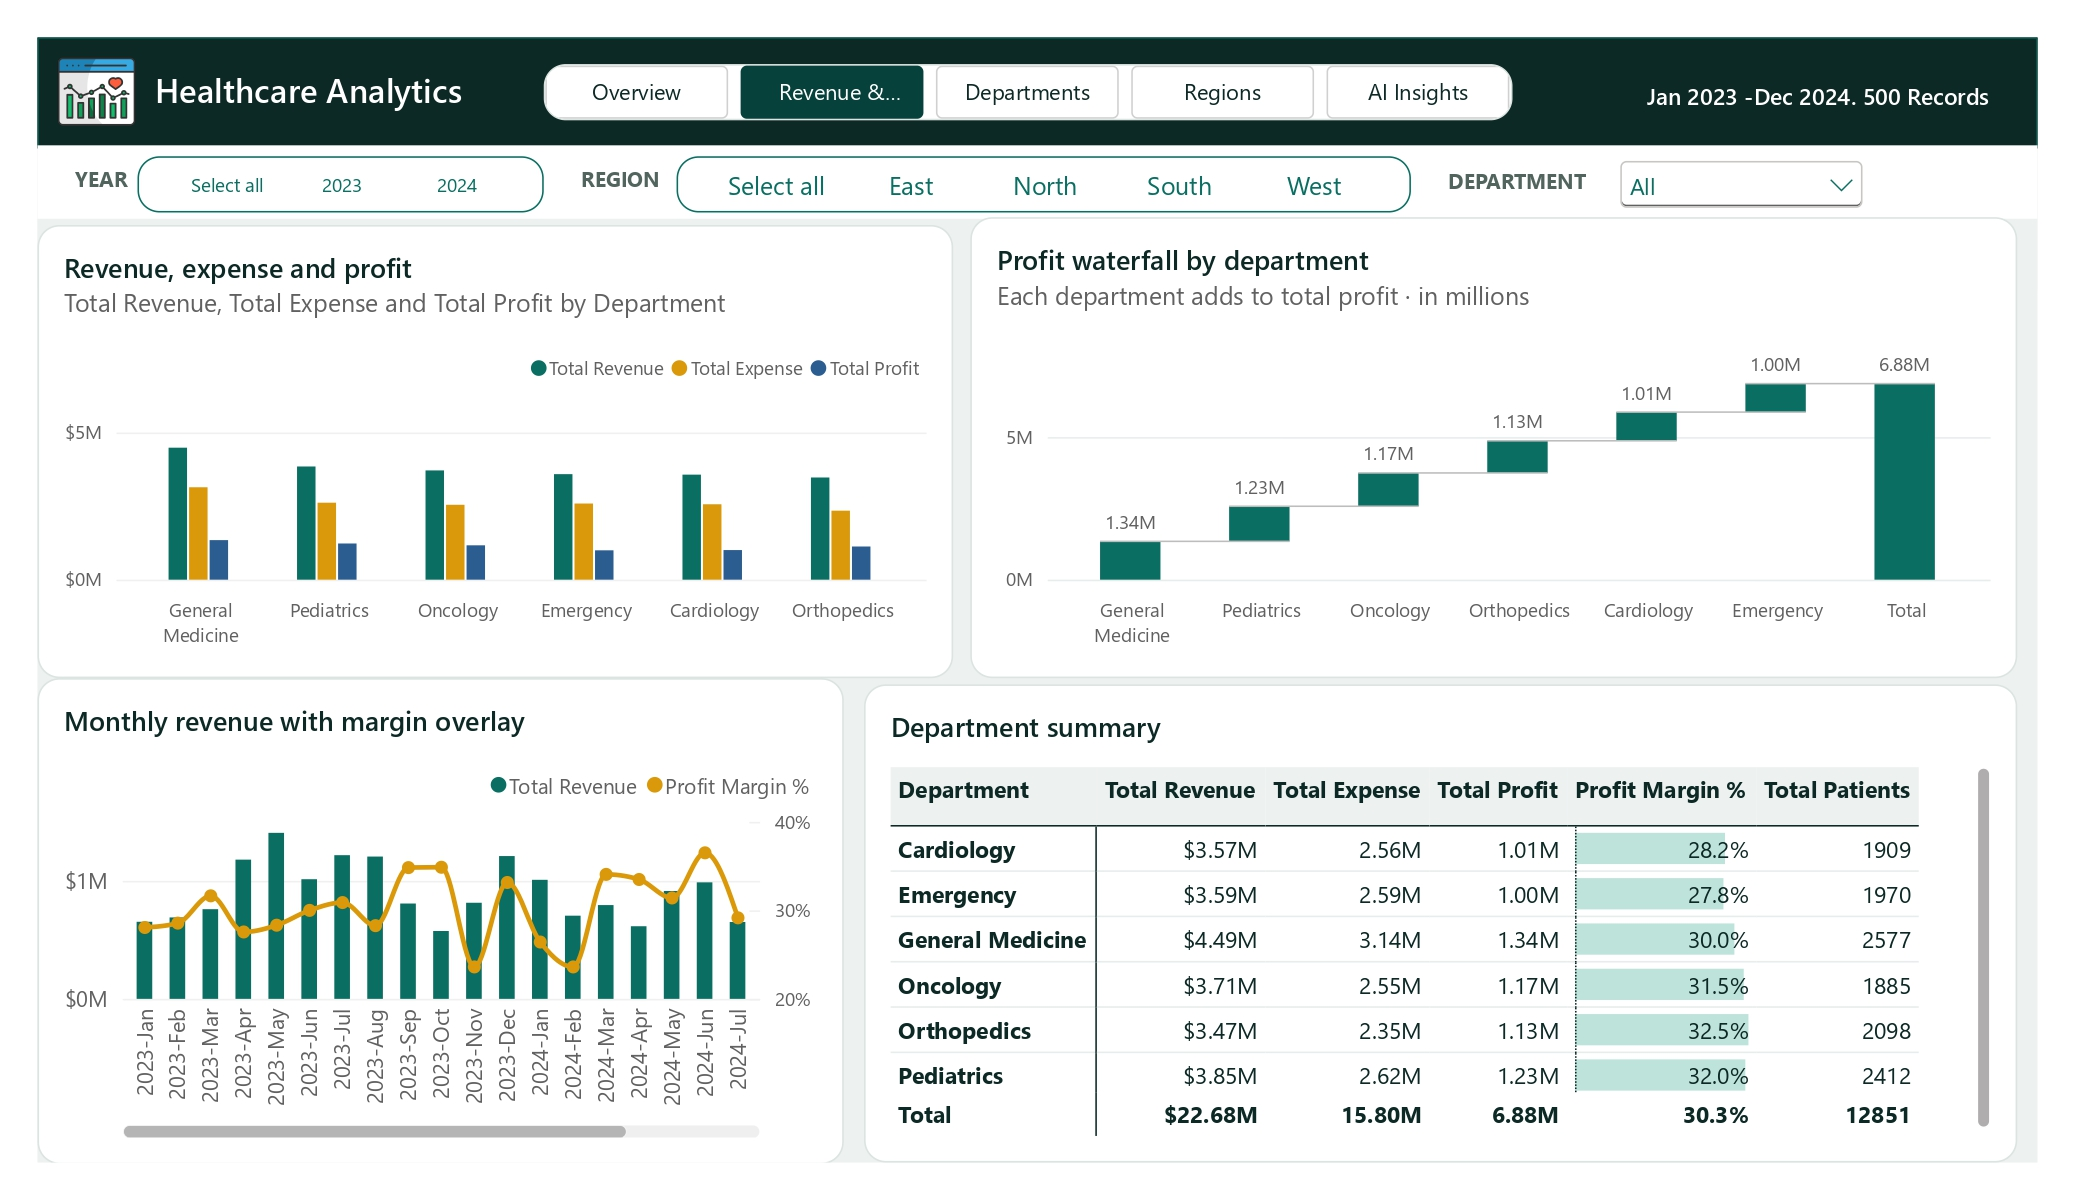

What the dashboard file says about the page in this screenshot:
{"tool":"powerbi","page":{"name":"Revenue & Profit","canvas":[1280,720],"ordinal":1},"visuals":[{"type":"shape","box":[0,0,1279.7,70.7],"z":0},{"type":"shape","box":[0,69,1280,47],"z":1000},{"type":"slicer","fields":{"Values":["DateTable.Year"]},"box":[64,75.8,260,36],"z":2000},{"type":"slicer","fields":{"Values":["Sheet1.Region"]},"box":[408.8,75.8,470.2,36.6],"z":3000},{"type":"slicer","fields":{"Values":["Sheet1.Department"]},"box":[1008.3,74.4,164.6,36.6],"z":4000},{"type":"textbox","box":[24,82,50.5,34.6],"z":5000},{"type":"textbox","box":[348,82,56,24],"z":6000},{"type":"textbox","box":[902.5,83,94,23.5],"z":7000},{"type":"textbox","box":[75,18.8,228,31.7],"z":8000},{"type":"image","box":[11.2,0,52.9,68.9],"z":9000},{"type":"textbox","box":[1030,27,249.5,30],"z":10000},{"type":"clusteredColumnChart","title":"Revenue, expense and profit","fields":{"Category":["Sheet1.Department"],"Y":["_Measures.Total Revenue","_Measures.Total Expense","_Measures.Total Profit"]},"box":[0,120.1,586.2,289.9],"z":11000},{"type":"waterfallChart","title":"Profit waterfall by department","fields":{"Category":["Sheet1.Department"],"Y":["_Measures.Total Profit"]},"box":[597.4,115.3,669.5,294.7],"z":12000},{"type":"lineClusteredColumnComboChart","title":"Monthly revenue with margin overlay","fields":{"Category":["DateTable.Year-Month"],"Y":["_Measures.Total Revenue"],"Y2":["_Measures.Profit Margin %"]},"box":[0,410.1,515.9,310.9],"z":13000},{"type":"pivotTable","title":"Department summary","fields":{"Rows":["Sheet1.Department"],"Values":["_Measures.Total Revenue","_Measures.Total Expense","_Measures.Total Profit","_Measures.Profit Margin %","_Measures.Total Patients"]},"box":[529,414,738,305.6],"z":14000},{"type":"pageNavigator","box":[323.9,17,620,36],"z":15000}]}

Visuals, with their boxes on the page's 1280x720 design canvas (x1, y1, x2, y2). These are canvas units, not pixel positions in the 2075x1200 screenshot, which may show the page scaled, cropped or inside an application window:
shape: x1=0, y1=0, x2=1280, y2=71
shape: x1=0, y1=69, x2=1280, y2=116
slicer - DateTable.Year: x1=64, y1=76, x2=324, y2=112
slicer - Sheet1.Region: x1=409, y1=76, x2=879, y2=112
slicer - Sheet1.Department: x1=1008, y1=74, x2=1173, y2=111
textbox: x1=24, y1=82, x2=74, y2=117
textbox: x1=348, y1=82, x2=404, y2=106
textbox: x1=902, y1=83, x2=996, y2=106
textbox: x1=75, y1=19, x2=303, y2=50
image: x1=11, y1=0, x2=64, y2=69
textbox: x1=1030, y1=27, x2=1280, y2=57
"Revenue, expense and profit" clusteredColumnChart: x1=0, y1=120, x2=586, y2=410
"Profit waterfall by department" waterfallChart: x1=597, y1=115, x2=1267, y2=410
"Monthly revenue with margin overlay" lineClusteredColumnComboChart: x1=0, y1=410, x2=516, y2=721
"Department summary" pivotTable: x1=529, y1=414, x2=1267, y2=720
pageNavigator: x1=324, y1=17, x2=944, y2=53
